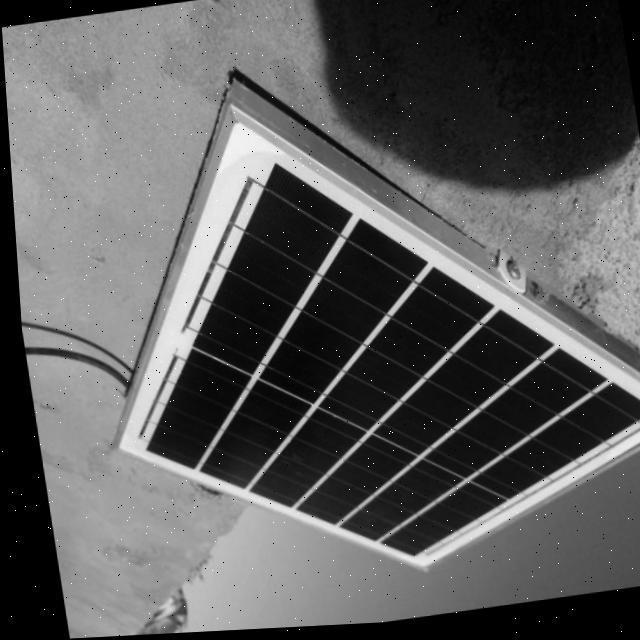Normal Solar Panel: (59, 65, 640, 614)
